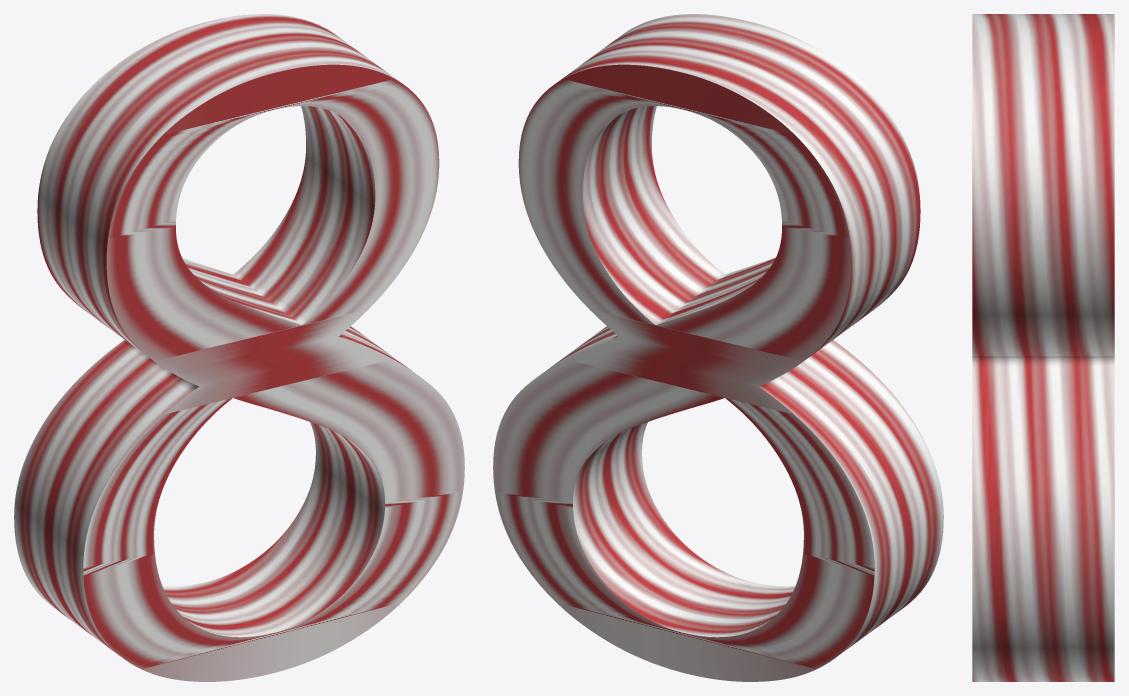
3 views of the same model, side by side, from view 1: azimuth 30°, elevation 25°; view 2: azimuth 150°, elevation 25°; view 3: azimuth 270°, elevation 25° (orthographic). The views are drawn at different scales.
Parts seen in each view (by area): view 1: Text.010; view 2: Text.010; view 3: Text.010.
Part boxes in pixels (x1,y1,x2,y2): Text.010: (14, 14, 464, 681); Text.010: (493, 14, 943, 681); Text.010: (972, 14, 1114, 681).
Bounding box in the file's own units: 0.3821 × 0.5742 × 0.12.
1 material, 1 textured.
